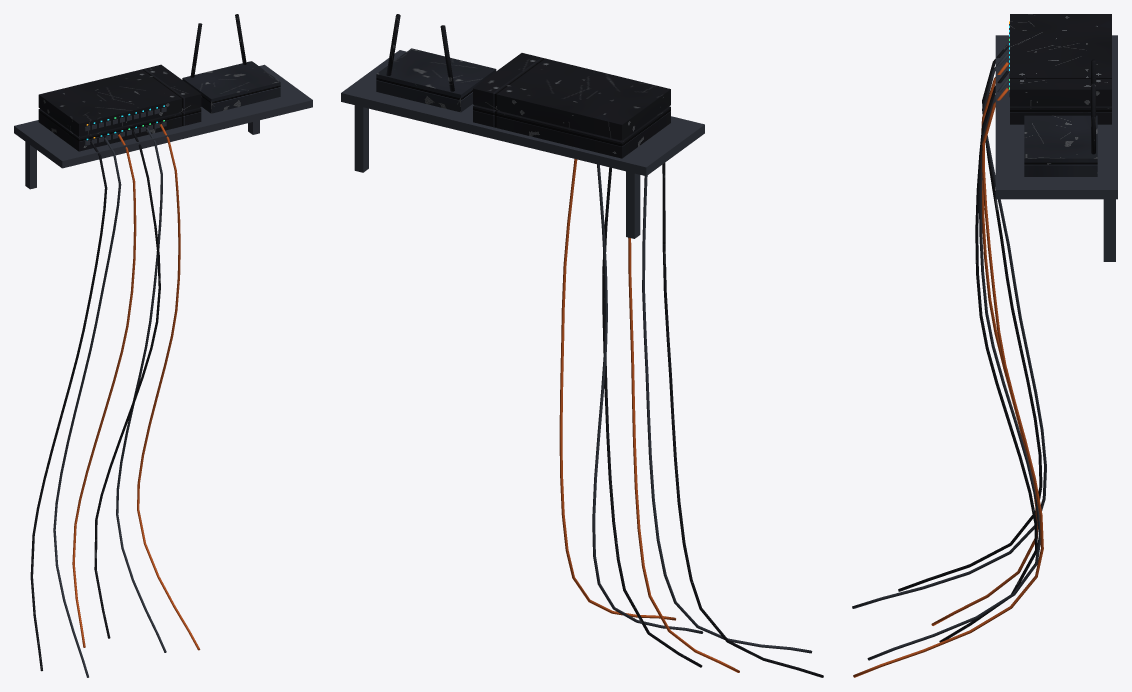
File: Tech_NetworkShelf.001.gltf
3 views of the same model, side by side, from view 1: azimuth 30°, elevation 25°; view 2: azimuth 150°, elevation 25°; view 3: azimuth 270°, elevation 25° (orthographic). The views are drawn at different scales.
Parts seen in each view (by area): view 1: Tech_NetworkShelf.001; view 2: Tech_NetworkShelf.001; view 3: Tech_NetworkShelf.001.
Boxes of the visible parts, <box> form: Tech_NetworkShelf.001: <box>14,14,312,677</box>; Tech_NetworkShelf.001: <box>341,14,823,677</box>; Tech_NetworkShelf.001: <box>852,14,1117,677</box>.
Size of the model in its own units: 1.11 by 1.83 by 0.6532.
7 materials, 2 textured.
